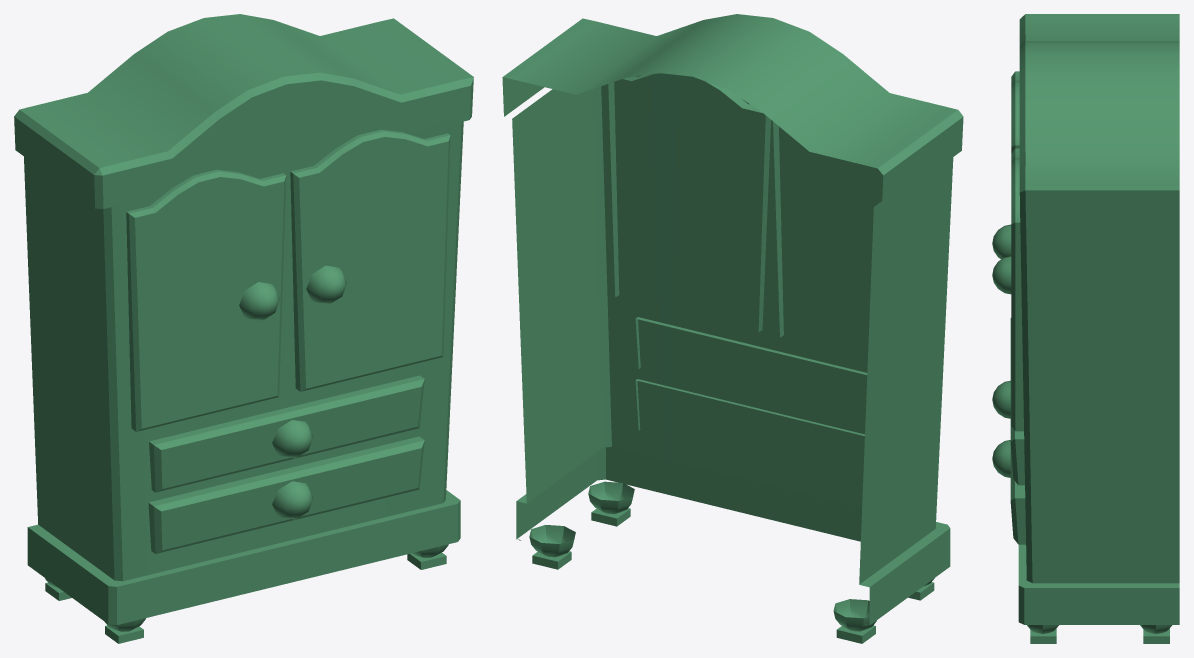
The model's file is Closet_V4.fbx.
The picture shows the model from 3 angles, left to right: view 1: azimuth 30°, elevation 25°; view 2: azimuth 150°, elevation 25°; view 3: azimuth 270°, elevation 25°; orthographic projection. The views are drawn at different scales.
Parts seen in each view (by area): view 1: Closet; view 2: Closet; view 3: Closet.
Boxes of the visible parts, box(x1,y1,x2,y2) form: Closet: box(14, 14, 473, 643); Closet: box(502, 14, 963, 643); Closet: box(992, 14, 1179, 643).
Bounding box in the file's own units: 294 × 392 × 131.
